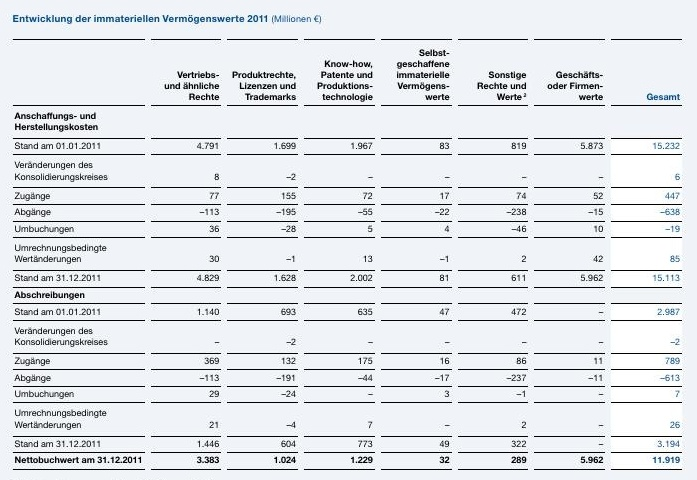table: (0, 0, 697, 480)
